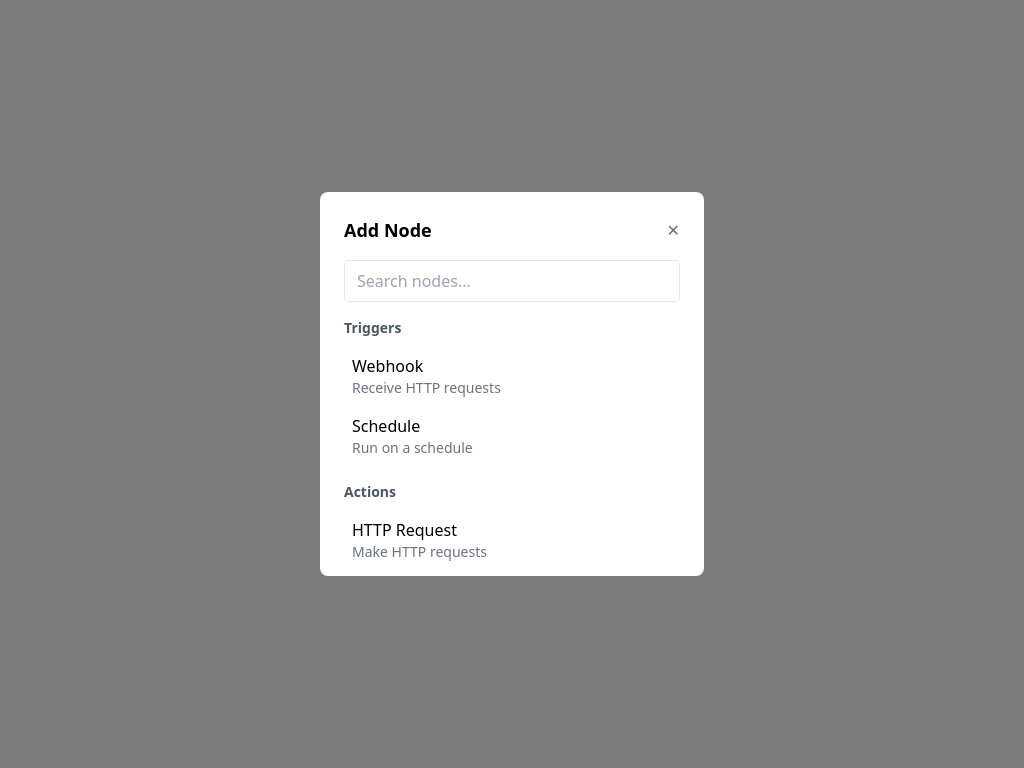
Test case: AddNodeModal › should filter node types based on search input
The width and height of the screenshot is (1024, 768).
Step 1. Type "webhook" into the field with placeholder "Search nodes..." → [512, 281], box [344, 260, 680, 302]
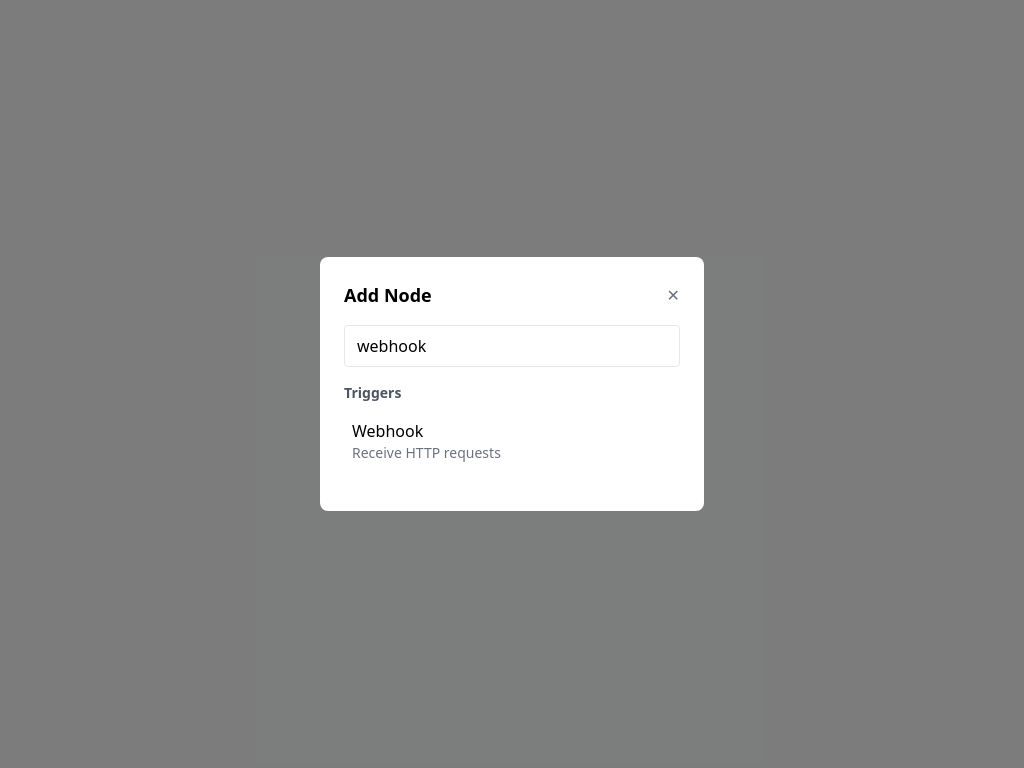
Expected: the text "Webhook" is shown, [352, 420, 423, 442]
Expected: the button "Schedule" is gone
Expected: the heading "Actions" is gone
